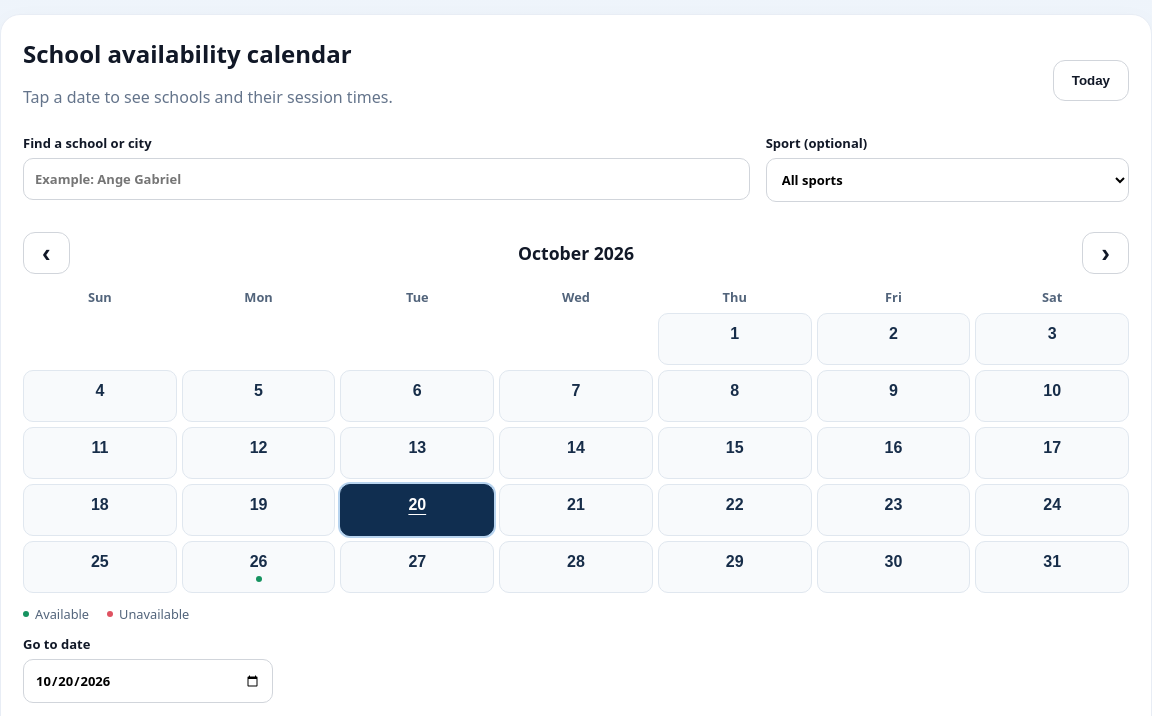
it: opens a date directly with all sports and groups duplicate court times
Click the button named "Monday, October 26, 2026": (259,567) [182,541,335,593]
(page scrolled)
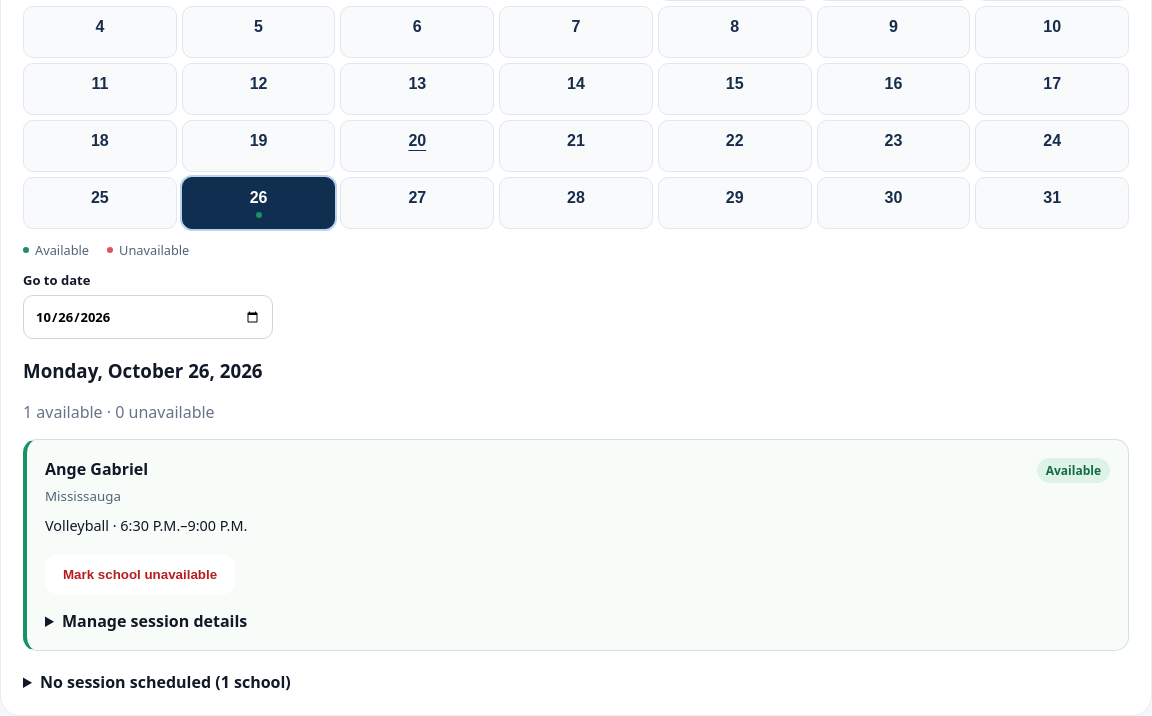
Check: the text "Available" is shown, box [1037,458,1110,483]
Check: the text "volleyball · 6:30 p.m.–9:00 p.m." is shown once, box [45,516,247,535]
Check: the heading "No session scheduled (1 school)" is shown, box [40,671,291,693]
